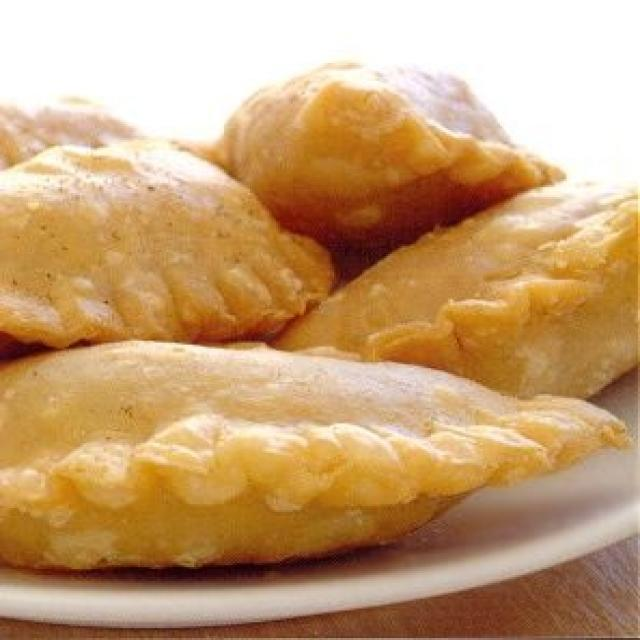炸货点心: (7, 57, 627, 593)
